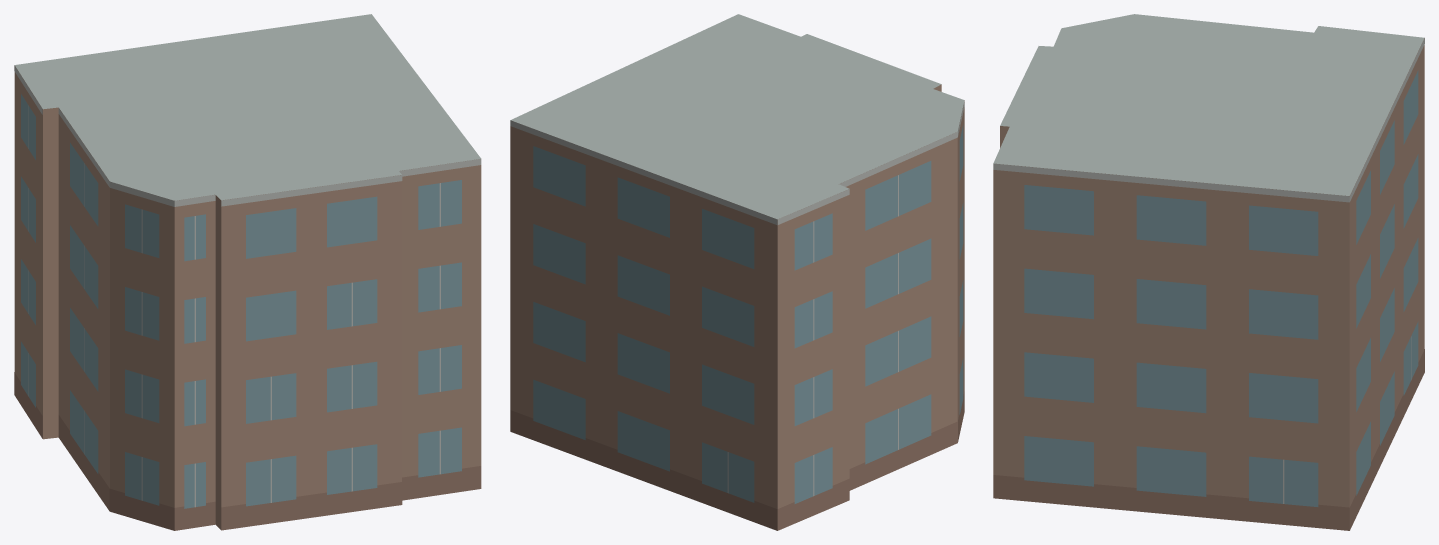
The model's file is survey-upis-32885848.glb.
3 renders of one model, left to right at view 1: azimuth 30°, elevation 25°; view 2: azimuth 150°, elevation 25°; view 3: azimuth 270°, elevation 25°, orthographic. The views are drawn at different scales.
Parts seen in each view (by area): view 1: survey-upis-32885848.tmp; view 2: survey-upis-32885848.tmp; view 3: survey-upis-32885848.tmp.
Part boxes in pixels (<box>): survey-upis-32885848.tmp: <box>14,14,481,530</box>; survey-upis-32885848.tmp: <box>510,14,964,530</box>; survey-upis-32885848.tmp: <box>993,14,1424,530</box>.
Size of the model in its own units: 15.06 by 12.9 by 15.08.
